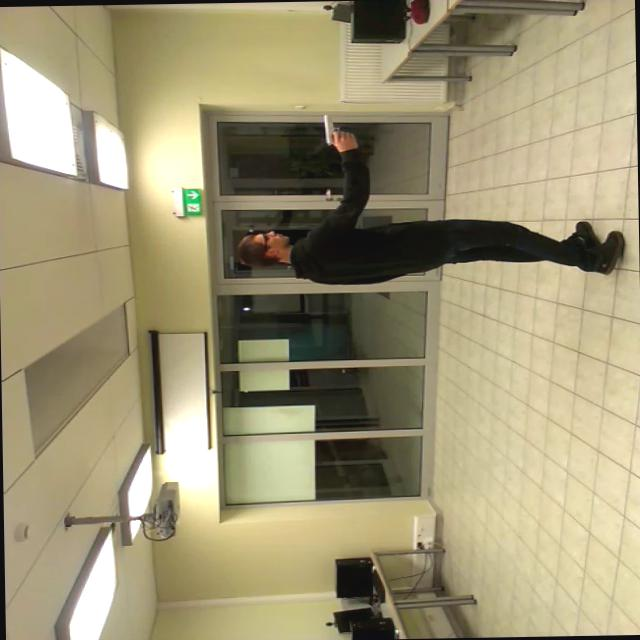handgun: (310, 110, 364, 146)
